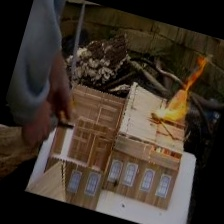fire: (154, 49, 208, 127)
